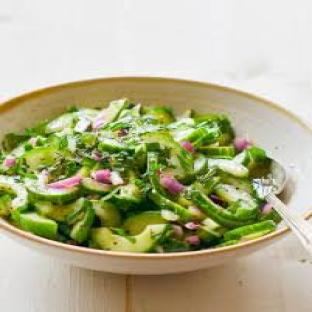Cucumber: (188, 187, 254, 228), (142, 132, 194, 175), (92, 224, 170, 252), (150, 189, 194, 221), (25, 179, 79, 205), (46, 109, 97, 134), (0, 176, 27, 221), (235, 147, 271, 177), (224, 221, 276, 241), (70, 202, 94, 243), (123, 212, 167, 234), (215, 184, 257, 207), (19, 213, 57, 238), (24, 147, 62, 170), (106, 183, 142, 207), (148, 152, 166, 196), (181, 127, 220, 147), (35, 202, 74, 222), (221, 175, 256, 197), (92, 201, 121, 227), (196, 218, 226, 241), (208, 160, 248, 177), (103, 99, 130, 123), (66, 198, 90, 224), (81, 178, 113, 195), (146, 106, 175, 124), (98, 138, 128, 152), (201, 146, 235, 157), (134, 143, 147, 170), (195, 153, 207, 176), (0, 194, 12, 216), (213, 240, 239, 248)
